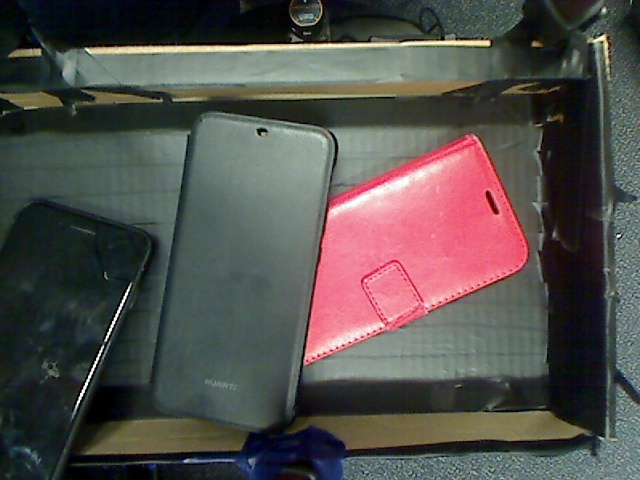phone: (276, 113, 545, 379), (140, 113, 354, 436), (1, 214, 166, 475)
